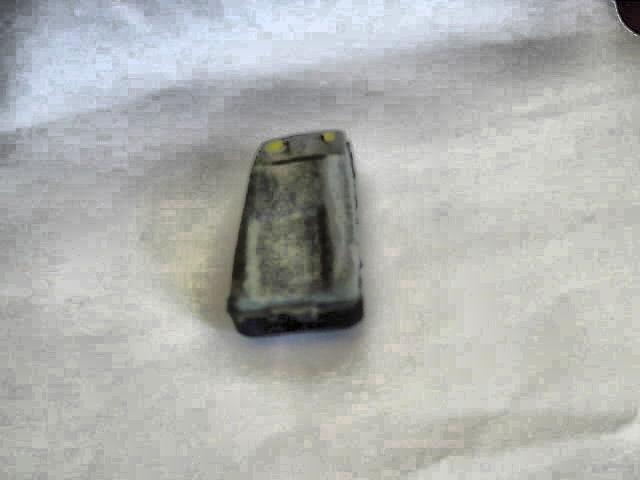normal_car: (223, 127, 369, 340), (406, 16, 421, 17)
